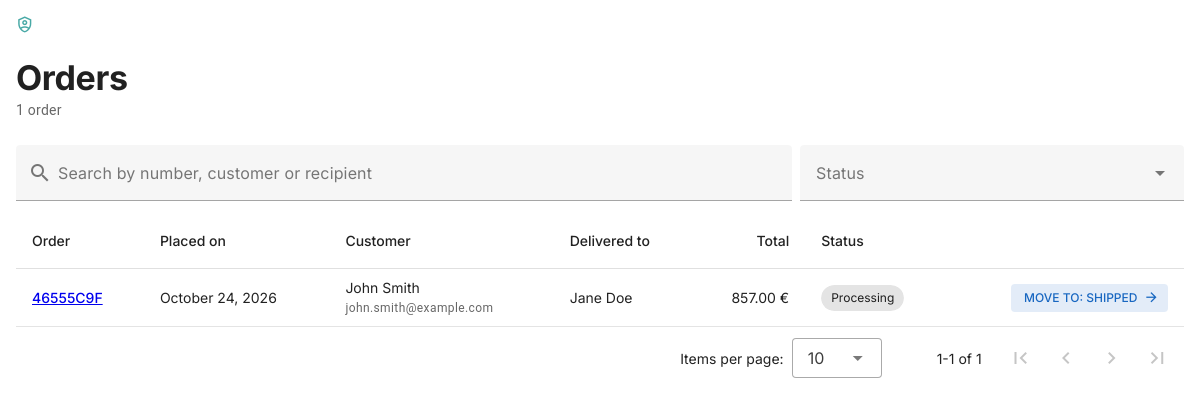
Test case: AdminOrders.vue › moving an order shows its next status
Click the button "Move to: Shipped" at (1090, 298), box x1=1011 y1=284 x2=1168 y2=312
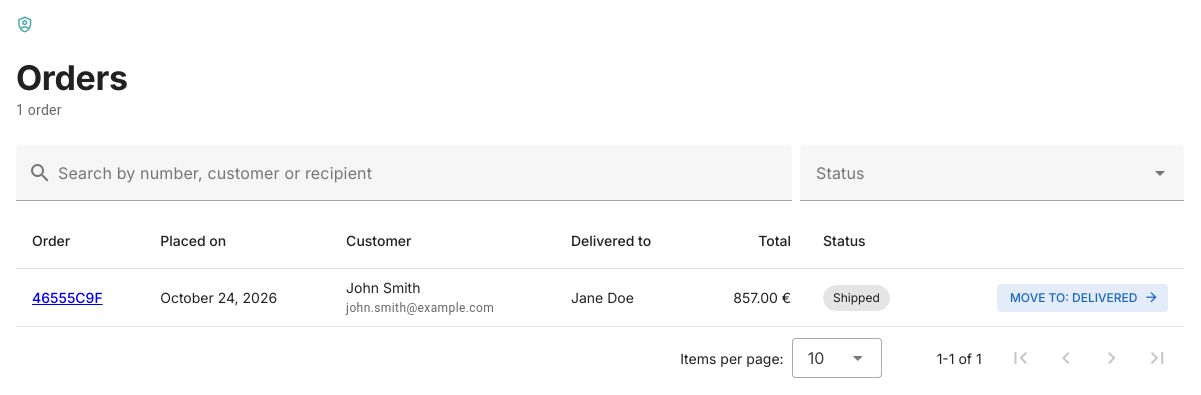
Expected: the text "Shipped" is shown, x1=833 y1=289 x2=880 y2=307
Result: the text "Move to: Delivered" is shown at x1=1009 y1=290 x2=1138 y2=305
